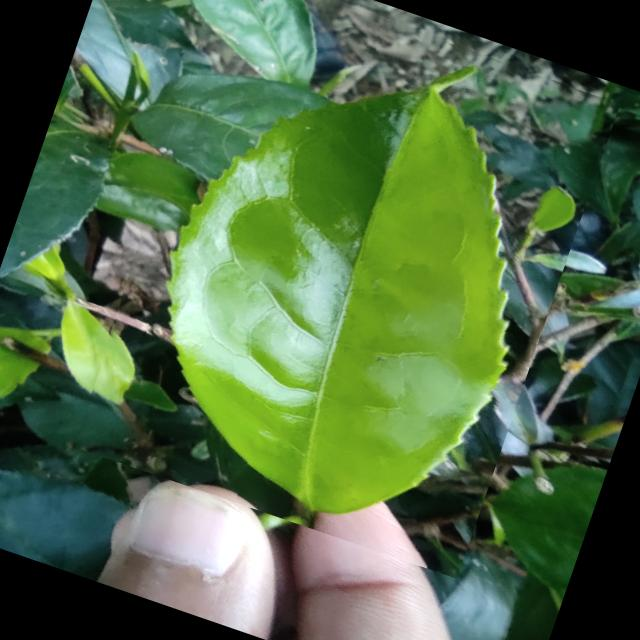Category C(4-7 days): (60, 0, 622, 578)
